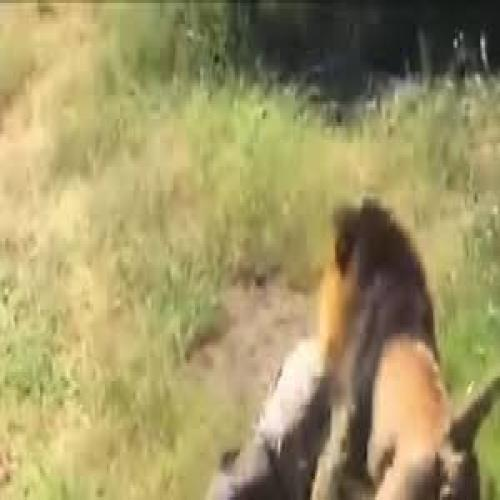lion-endangered: (313, 200, 500, 500)
